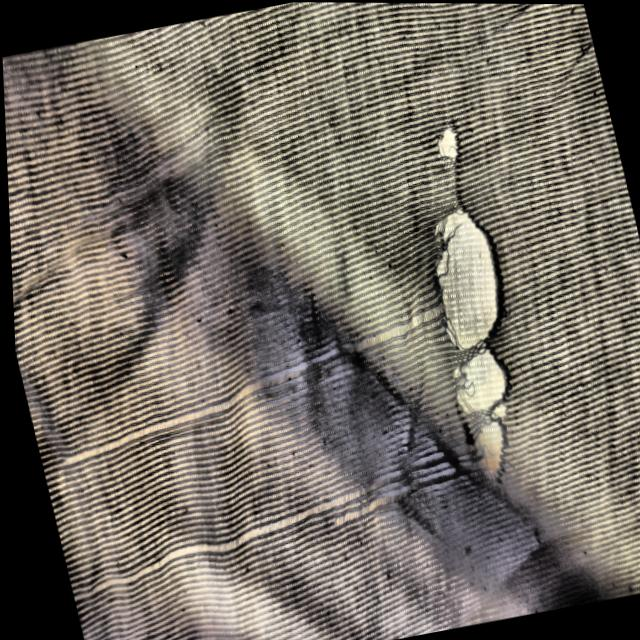Hole: (425, 115, 471, 170)
Stitch: (7, 187, 535, 481), (43, 409, 533, 630)
